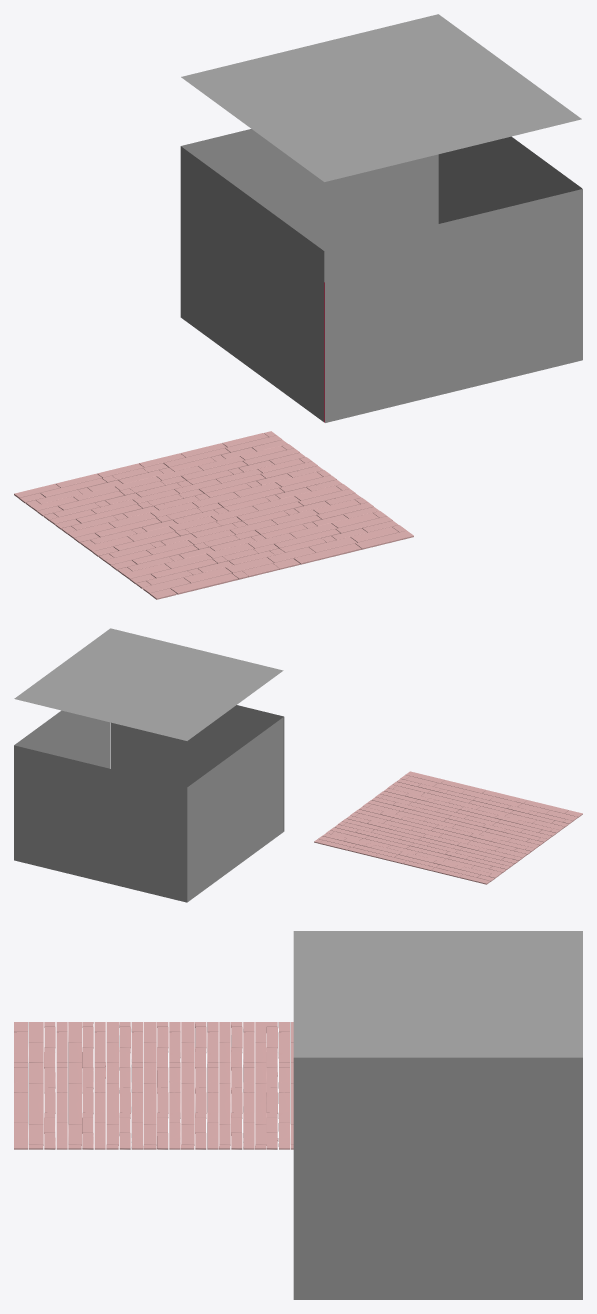
Rendered from Music Room 2.fbx.
3 views of the same model, one above another, from view 1: azimuth 30°, elevation 25°; view 2: azimuth 150°, elevation 25°; view 3: azimuth 270°, elevation 25° (orthographic). The views are drawn at different scales.
Visible parts, largest first — view 1: Wall_and_Floor, Wall_and_Floor1; view 2: Wall_and_Floor, Wall_and_Floor1; view 3: Wall_and_Floor.
Part boxes in pixels (left/top/right/bottom): Wall_and_Floor: left=180, top=14, right=582, bottom=422; Wall_and_Floor1: left=181, top=129, right=438, bottom=282; Wall_and_Floor: left=14, top=628, right=284, bottom=902; Wall_and_Floor1: left=14, top=745, right=187, bottom=902; Wall_and_Floor: left=293, top=931, right=582, bottom=1299.
Bounding box in the file's own units: 54.85 × 22.4 × 47.56.
